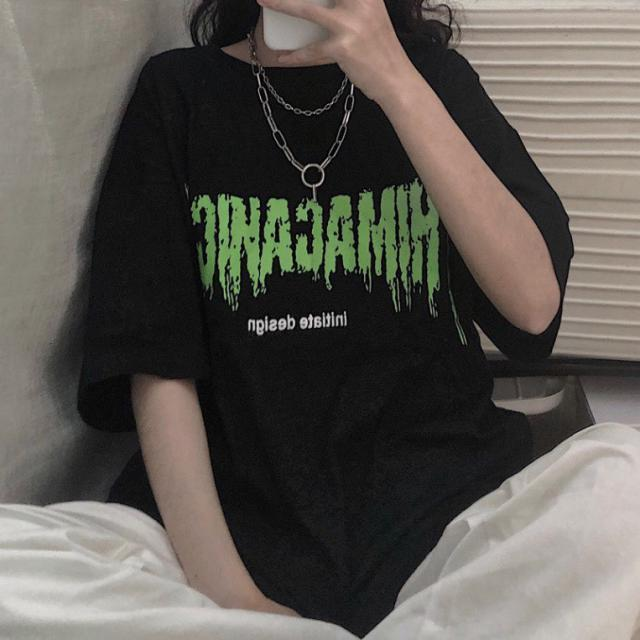Shirt: (67, 23, 582, 636)
